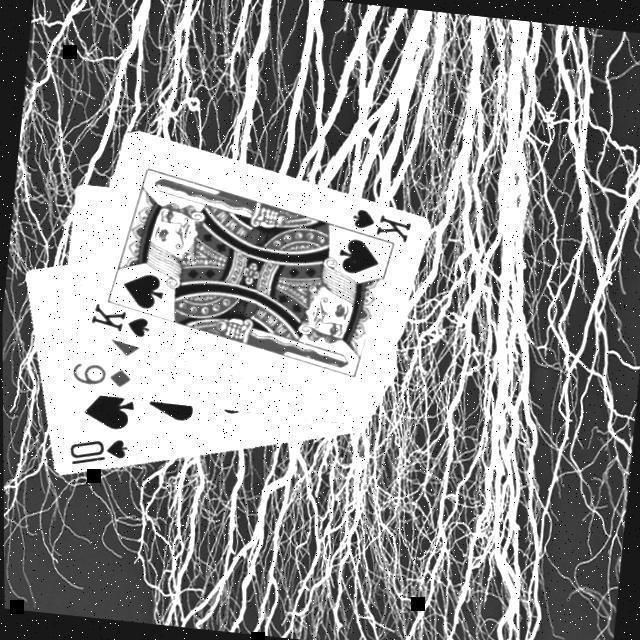10S: (64, 432, 132, 474)
6D: (66, 359, 134, 394)
KS: (338, 204, 416, 252), (85, 300, 154, 343)
